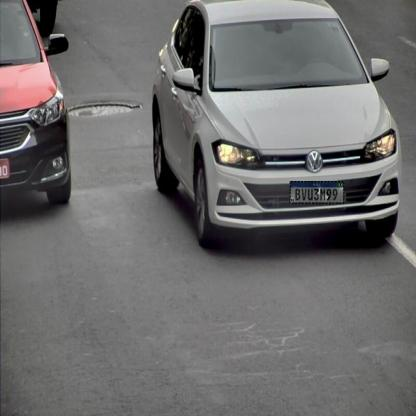PlacaM: (290, 181, 344, 204)
